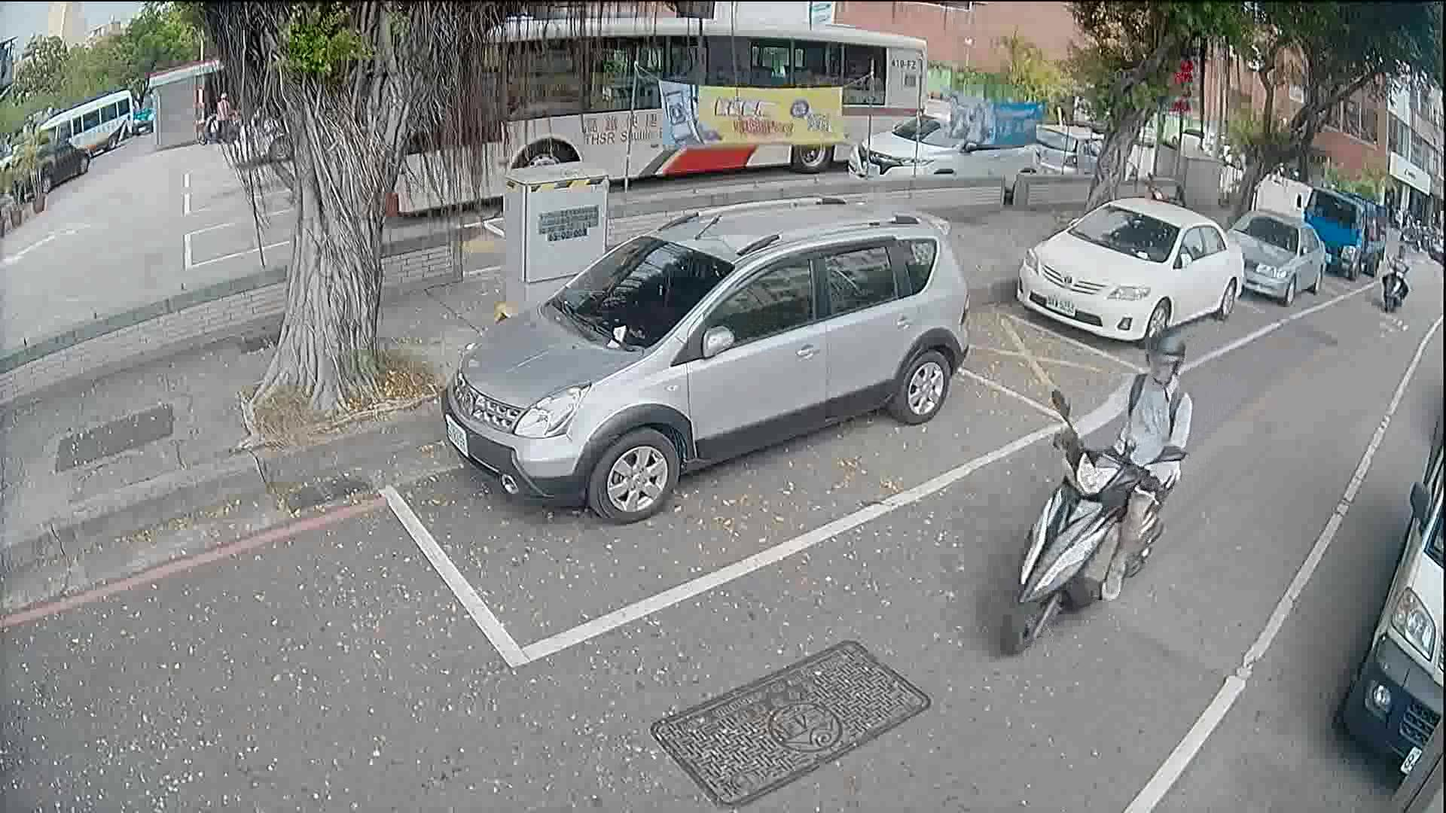person: (1039, 318, 1193, 607), (1381, 243, 1408, 297), (208, 85, 232, 143)
